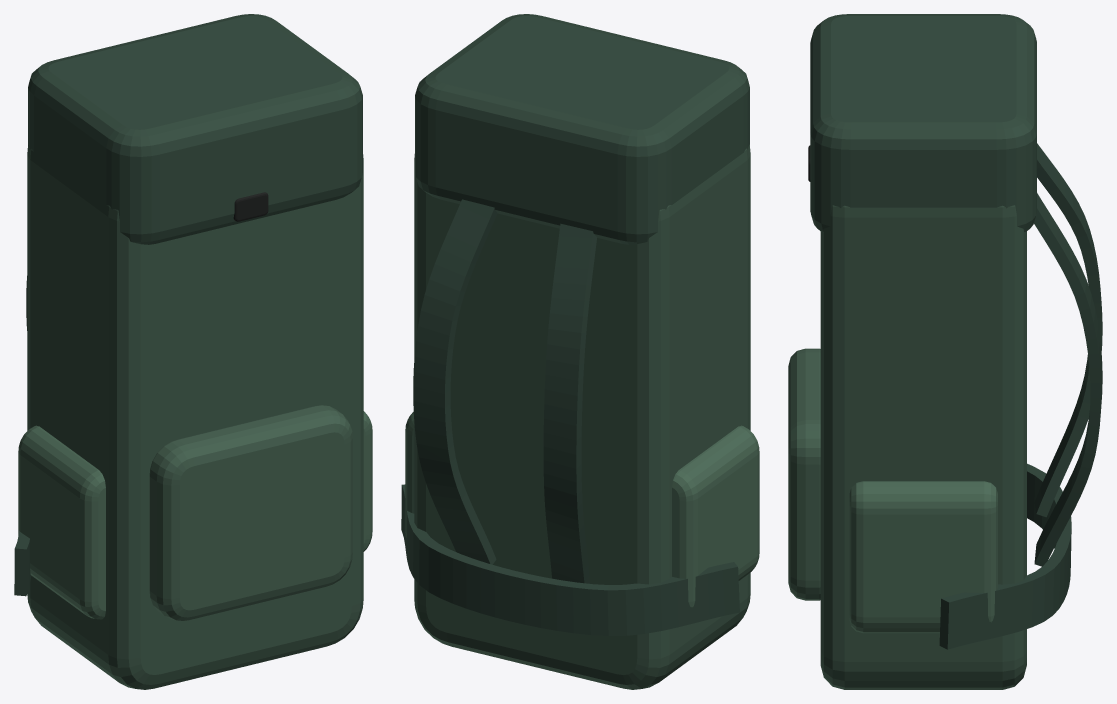
The model's file is expedition-75.glb.
3 views of the same model, side by side, from view 1: azimuth 30°, elevation 25°; view 2: azimuth 150°, elevation 25°; view 3: azimuth 270°, elevation 25° (orthographic).
Parts seen in each view (by area): view 1: body, lid, front-pocket, side-pocket-l, side-pocket-r, hip-belt, lid-buckle; view 2: body, lid, hip-belt, shoulder-strap-r, shoulder-strap-l, side-pocket-l, side-pocket-r; view 3: body, lid, side-pocket-r, front-pocket, hip-belt, shoulder-strap-r, shoulder-strap-l.
Boxes of the visible parts, x1,y1,x2,y2 form: body: (27, 145, 363, 689); lid: (28, 14, 362, 244); front-pocket: (149, 405, 352, 620); side-pocket-l: (18, 425, 105, 619); side-pocket-r: (363, 411, 372, 551); hip-belt: (14, 531, 31, 596); lid-buckle: (233, 192, 268, 221); body: (414, 144, 750, 689); lid: (415, 14, 749, 244); hip-belt: (401, 484, 739, 635); shoulder-strap-r: (413, 199, 497, 564); shoulder-strap-l: (543, 223, 596, 583); side-pocket-l: (672, 425, 759, 607); side-pocket-r: (405, 412, 414, 537); body: (820, 205, 1026, 689); lid: (810, 14, 1036, 231); side-pocket-r: (849, 481, 997, 633); front-pocket: (788, 348, 820, 600); hip-belt: (939, 463, 1071, 649); shoulder-strap-r: (1034, 193, 1102, 566); shoulder-strap-l: (1034, 143, 1102, 517).
Size of the model in its own units: 0.5771 by 0.92 by 0.4573.
